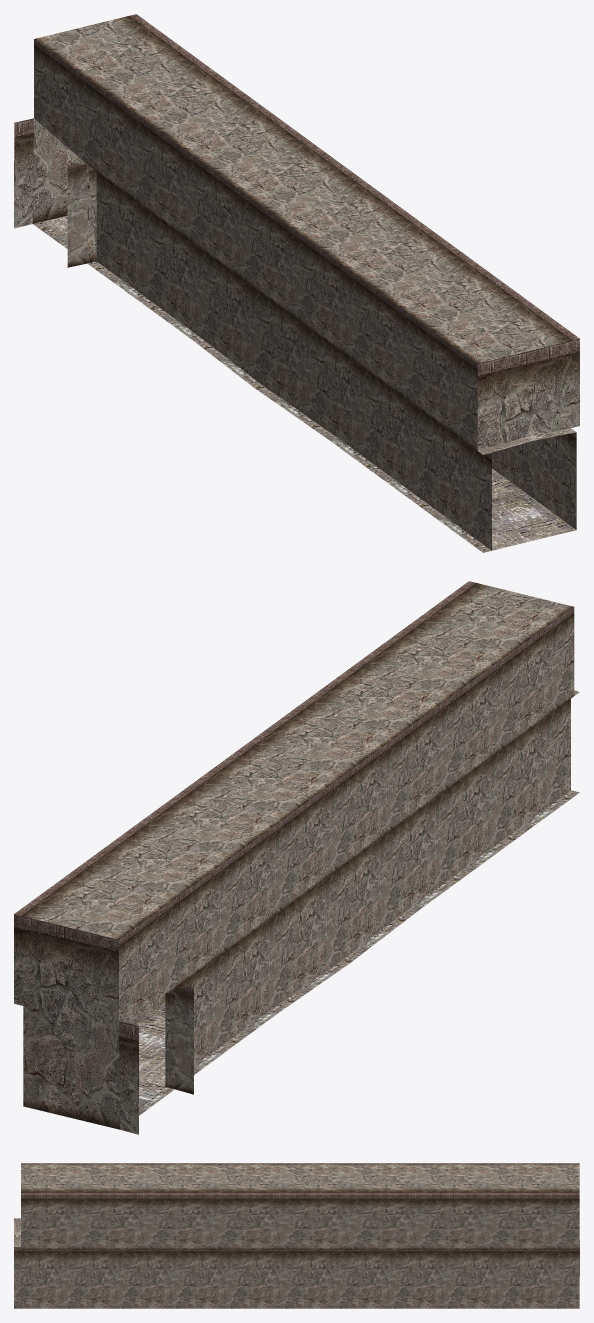
The model's file is ditou02.obj.
3 renders of one model, top to bottom at view 1: azimuth 30°, elevation 25°; view 2: azimuth 150°, elevation 25°; view 3: azimuth 270°, elevation 25°, orthographic. The views are drawn at different scales.
Visible parts, largest first — view 1: ditou02; view 2: ditou02; view 3: ditou02.
Part boxes in pixels (x1,y1,x2,y2): ditou02: [14, 14, 579, 552]; ditou02: [14, 581, 579, 1134]; ditou02: [14, 1163, 579, 1308].
Bounding box in the file's own units: 131 × 189 × 833.
